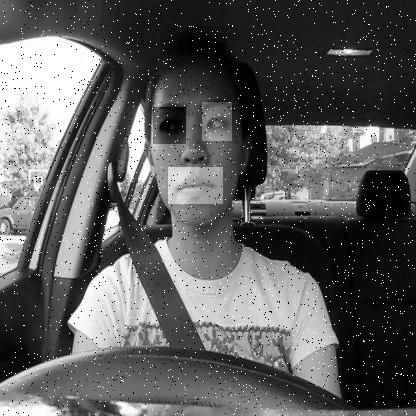seatbelt: (130, 36, 274, 342)
